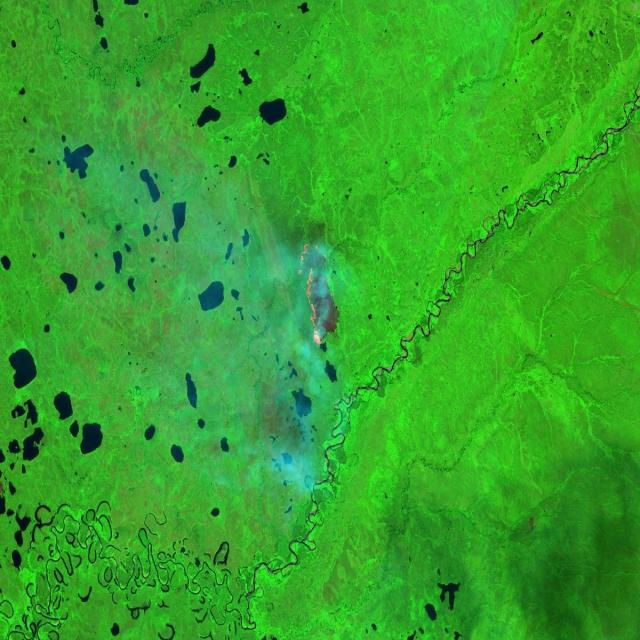fire: (292, 237, 346, 355)
